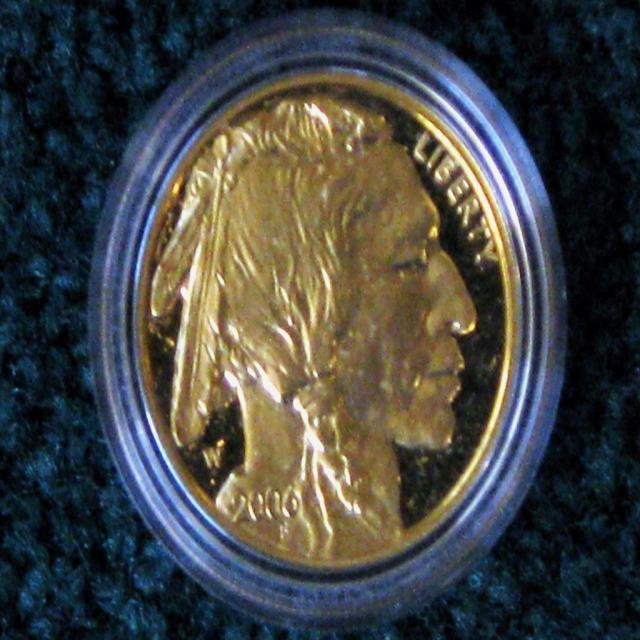Coin: (144, 72, 509, 558)
